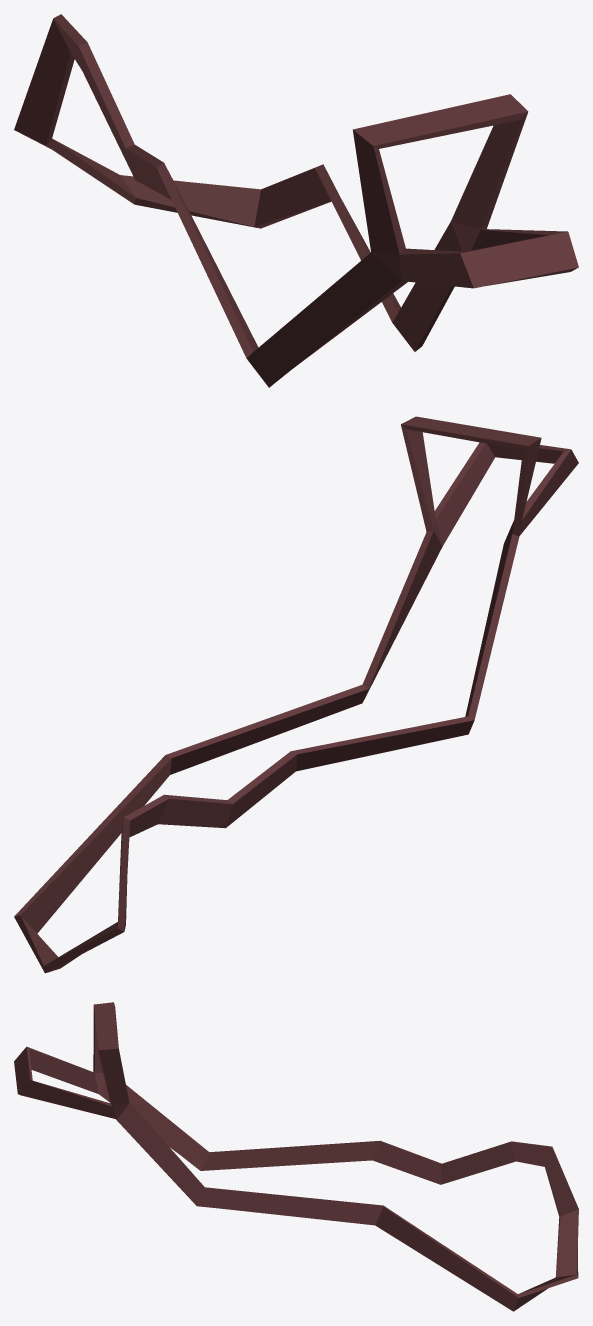
The model's file is reins.gltf.
3 views of the same model, one above another, from view 1: azimuth 30°, elevation 25°; view 2: azimuth 150°, elevation 25°; view 3: azimuth 270°, elevation 25° (orthographic). The views are drawn at different scales.
Visible parts, largest first — view 1: Reins.000; view 2: Reins.000; view 3: Reins.000.
Part boxes in pixels (bbox=[...]): Reins.000: bbox=[14, 14, 578, 387]; Reins.000: bbox=[14, 416, 578, 973]; Reins.000: bbox=[14, 1002, 578, 1311].
Size of the model in its own units: 0.6345 by 0.8577 by 1.86.
